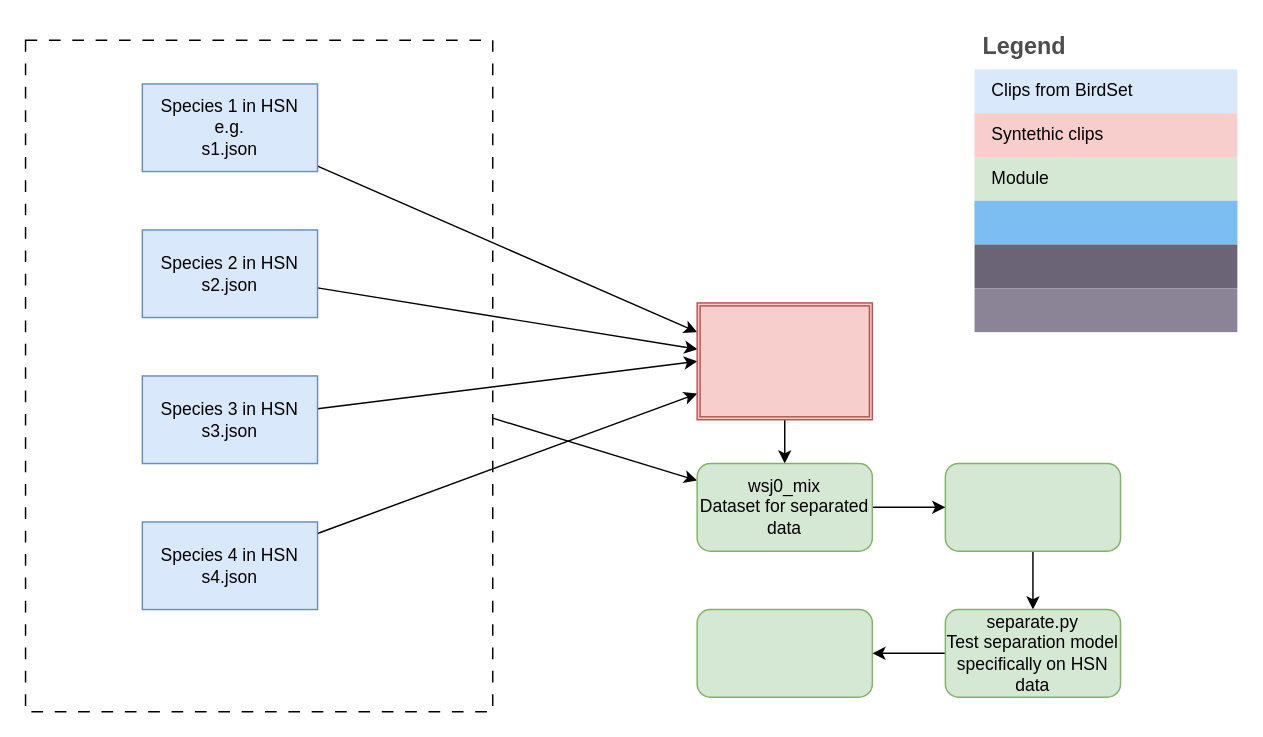
Some shapes in this 1263 by 737 pixel diagram are drawn without their labels. Here are the shapes that lost their labels. From the top down, the box of each, then its label:
(696, 301, 872, 420): Syntethically combined clips from HSN mix.json
(944, 462, 1121, 551): train.py Train separation model specifically on HSN data
(696, 608, 872, 697): Test downstream classifier results on separated data
